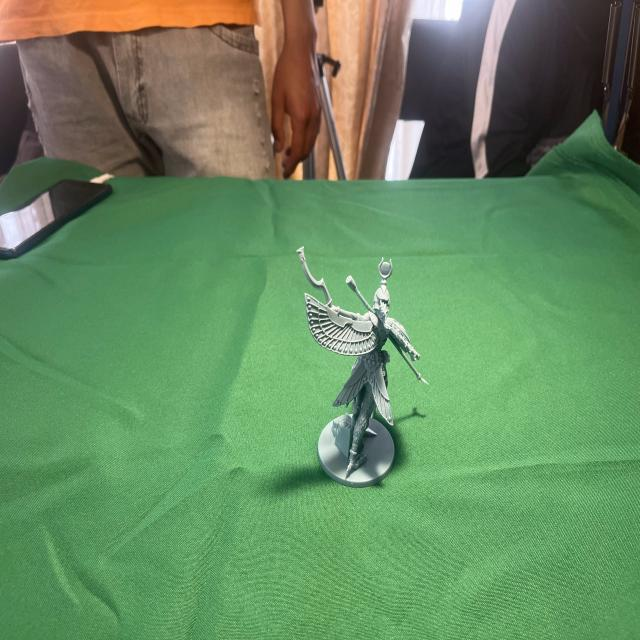isis: (289, 226, 433, 493)
